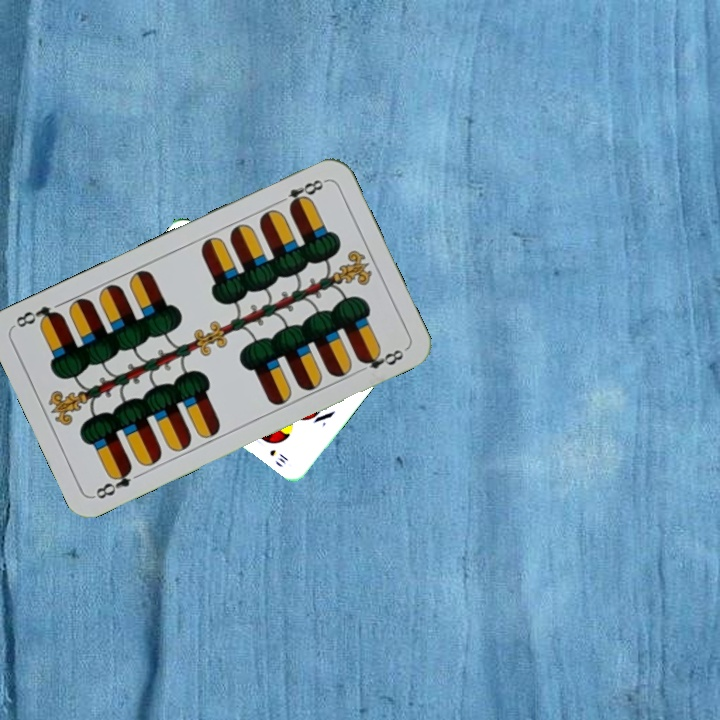E8: (273, 175, 329, 212), (90, 462, 135, 502)
